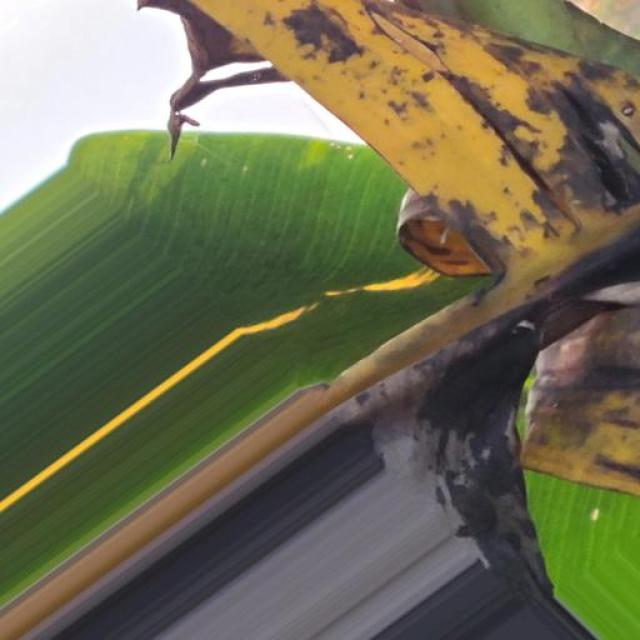Cordana: (87, 0, 640, 581)
